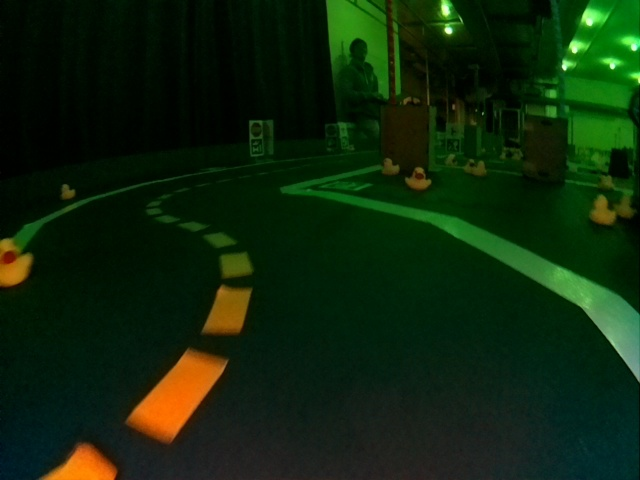Duckie: (2, 238, 32, 287), (590, 195, 615, 225), (405, 167, 431, 190), (382, 158, 399, 174), (60, 184, 76, 199), (475, 161, 485, 175)
QR code: (320, 181, 371, 191), (250, 138, 263, 155)
Stop sign: (250, 122, 263, 135)
